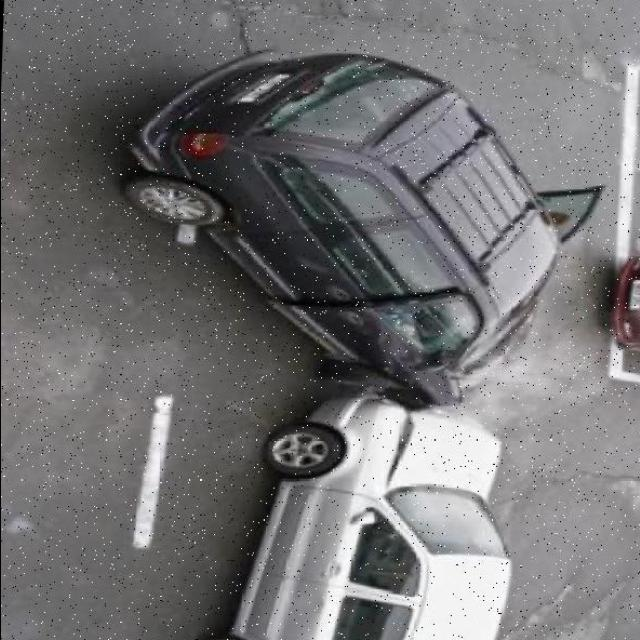accident: (106, 45, 610, 639)
